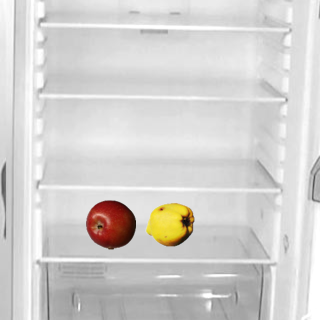Apple Braeburn: (85, 199, 135, 249)
Quince: (144, 199, 194, 249)
